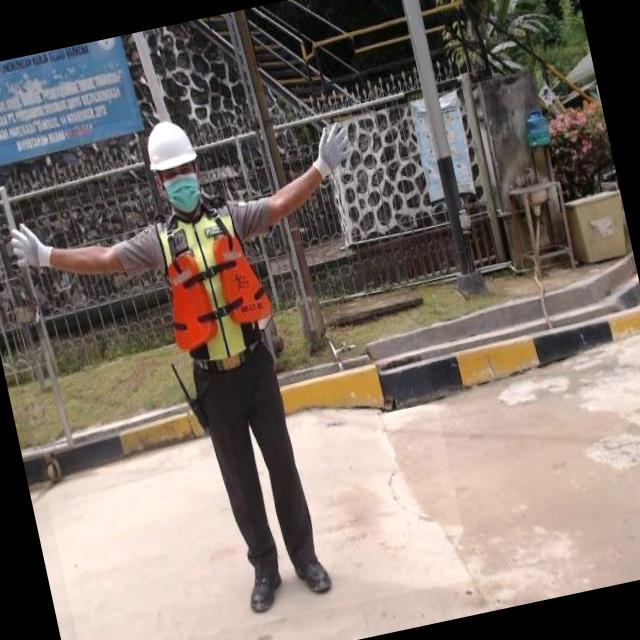Helmet: (138, 114, 201, 175)
Human: (0, 69, 473, 640)
Safety Boot: (239, 556, 288, 619), (290, 545, 337, 602)
Safety Vest: (150, 192, 280, 370)
